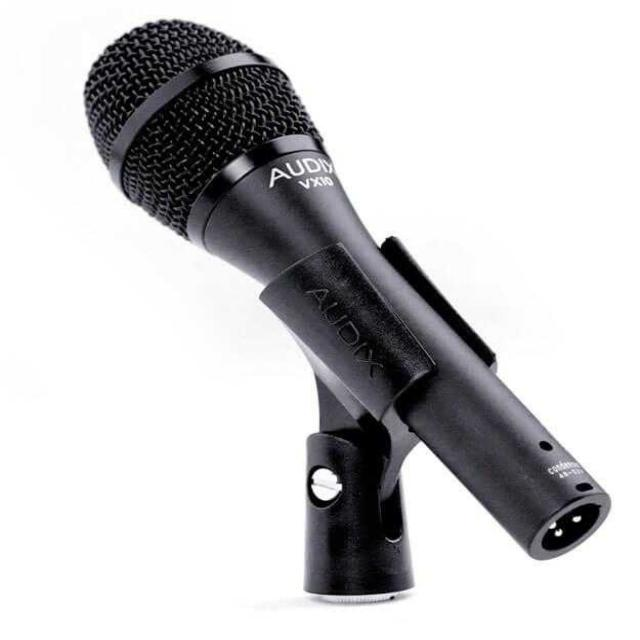microphone: (90, 21, 594, 589)
